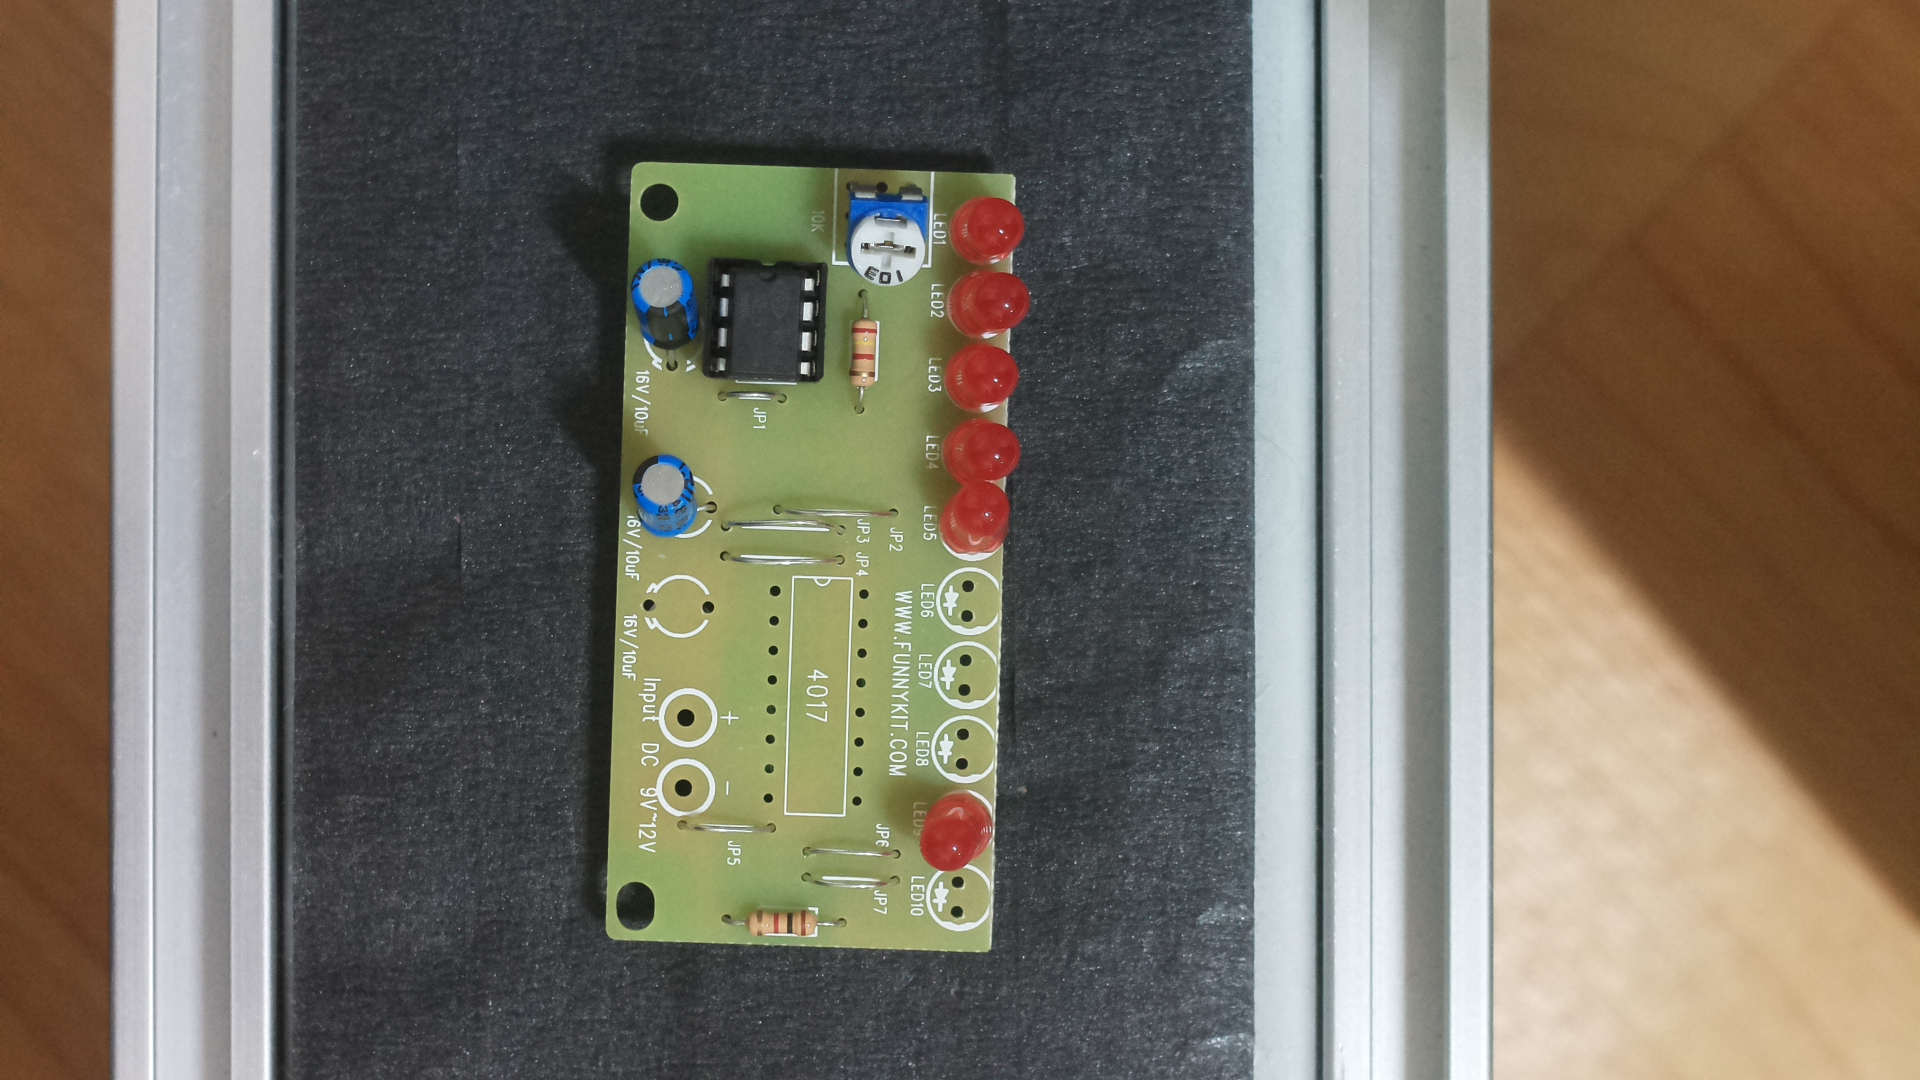B_Missing_part: (611, 132, 1035, 974)
